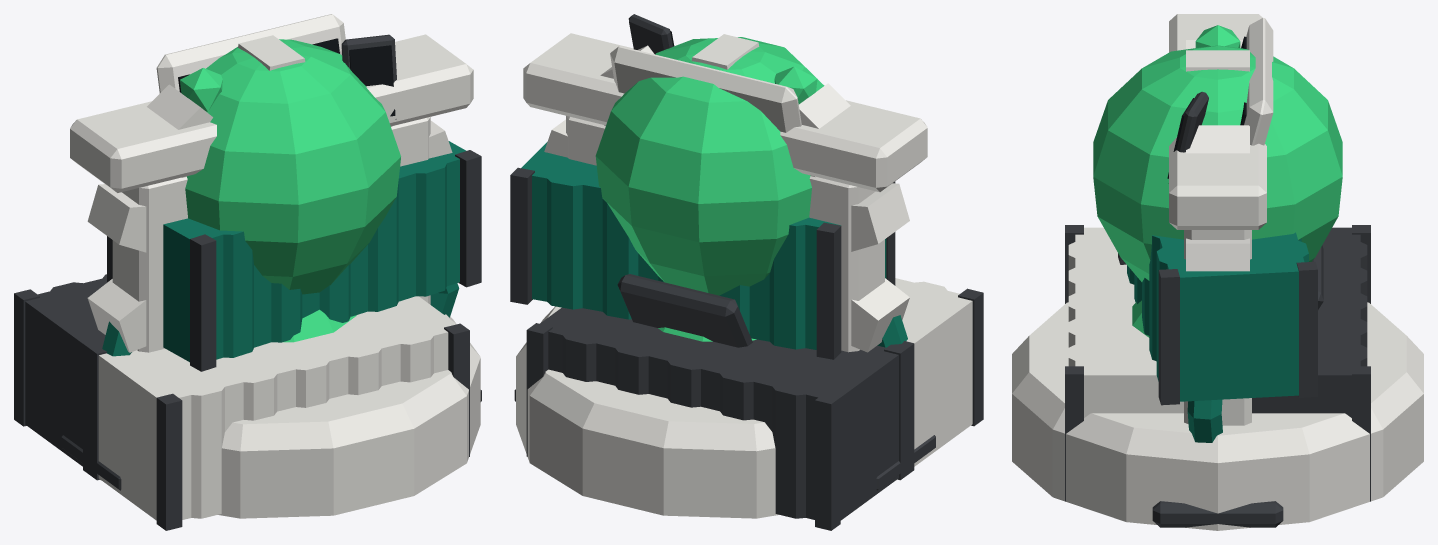
The model's file is kit-world.glb.
The picture shows the model from 3 angles, left to right: view 1: azimuth 30°, elevation 25°; view 2: azimuth 150°, elevation 25°; view 3: azimuth 270°, elevation 25°; orthographic projection.
Visible parts, largest first — view 1: group, light, sensor, edge, job, phone, guest, tailnet, site; view 2: group, light, sensor, edge, phone, job, tailnet, guest, site; view 3: group, sensor, light, edge, job, tailnet, phone, guest, site.
Part boxes in pixels (box(x1,y1,x2,y2)): group: box(14, 141, 481, 530); light: box(185, 39, 400, 294); sensor: box(100, 309, 480, 518); edge: box(70, 34, 473, 352); job: box(87, 35, 452, 352); phone: box(156, 14, 345, 93); guest: box(341, 34, 396, 119); tailnet: box(61, 283, 481, 490); site: box(180, 68, 222, 111); group: box(510, 142, 983, 530); light: box(595, 37, 824, 295); sensor: box(516, 306, 897, 518); edge: box(523, 33, 927, 352); phone: box(610, 46, 801, 347); job: box(544, 34, 909, 352); tailnet: box(514, 315, 935, 490); guest: box(628, 14, 674, 53); site: box(774, 66, 817, 104); group: box(1065, 225, 1370, 501); sensor: box(1012, 300, 1423, 530); light: box(1093, 45, 1342, 281); edge: box(1169, 14, 1266, 425); job: box(1186, 40, 1249, 271); tailnet: box(1152, 399, 1283, 527); phone: box(1240, 18, 1323, 309); guest: box(1167, 91, 1208, 183); site: box(1195, 25, 1240, 47).
Size of the model in its own units: 1 by 1 by 0.9749.
